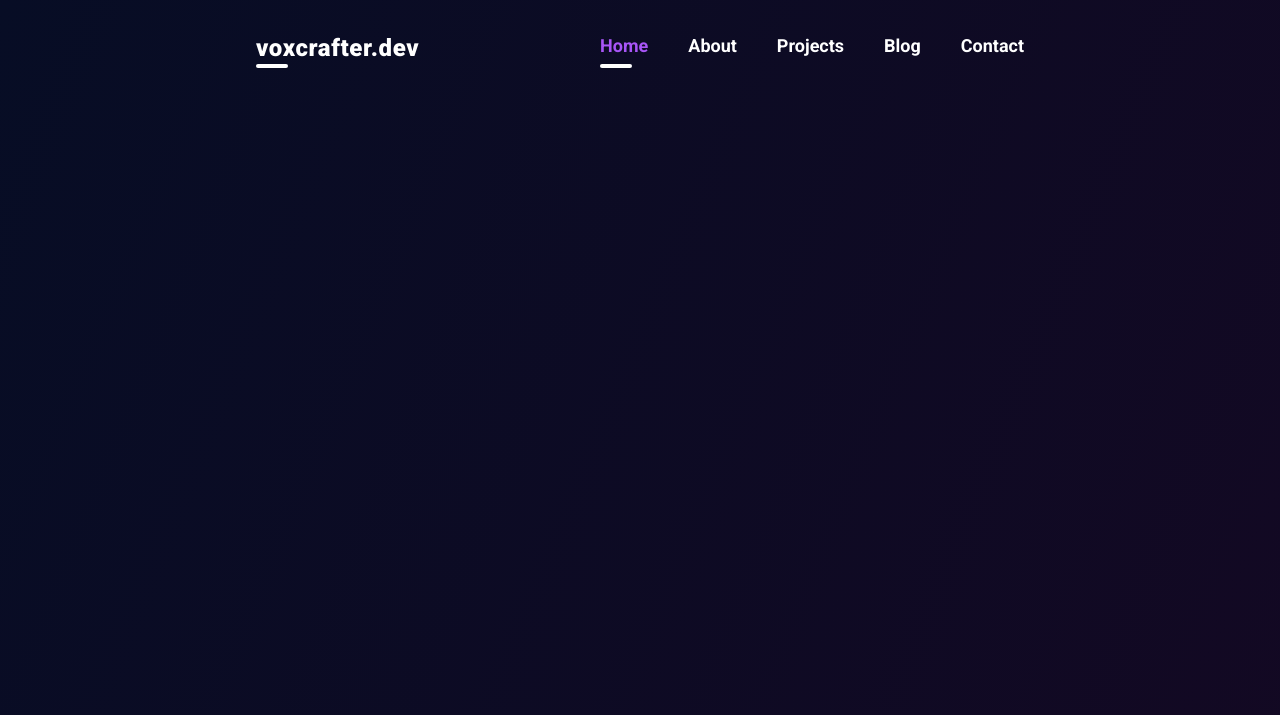
full app rendering/navigating
Click the link with test id "nav-About" at (713, 46), box [688,35,737,56]
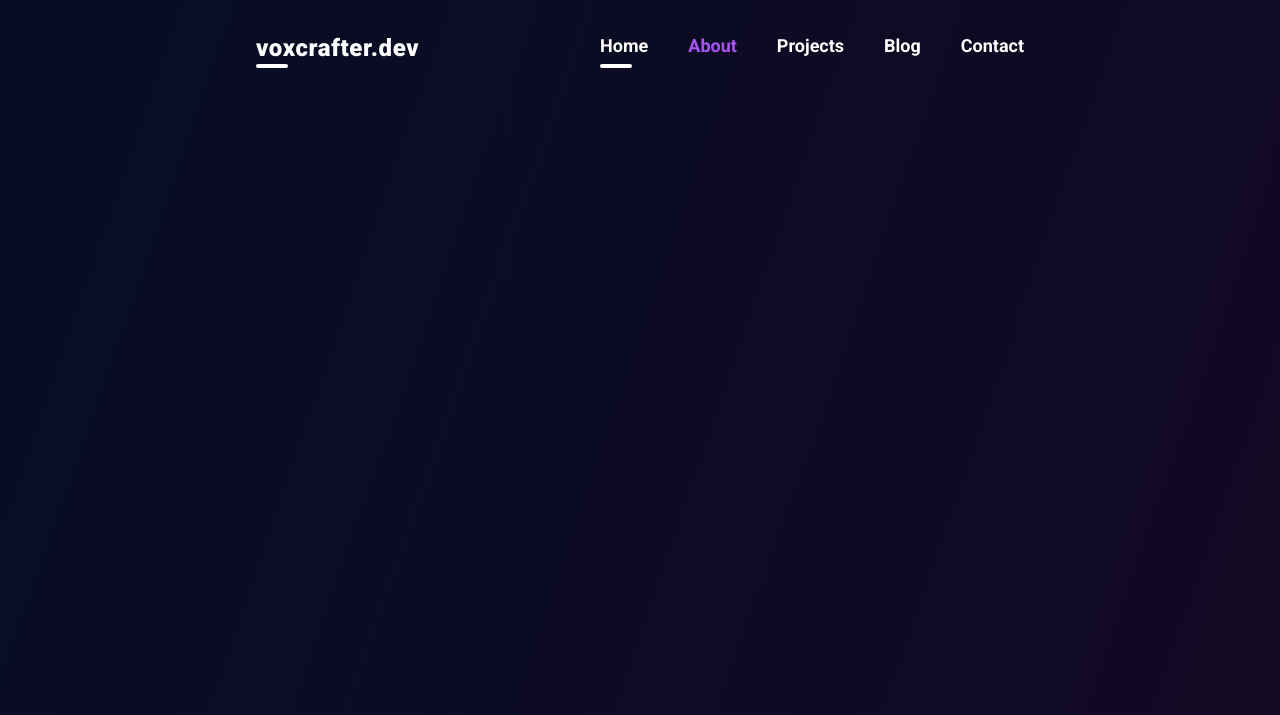
Click the link with test id "nav-Projects" at (810, 46), box [777,35,844,56]
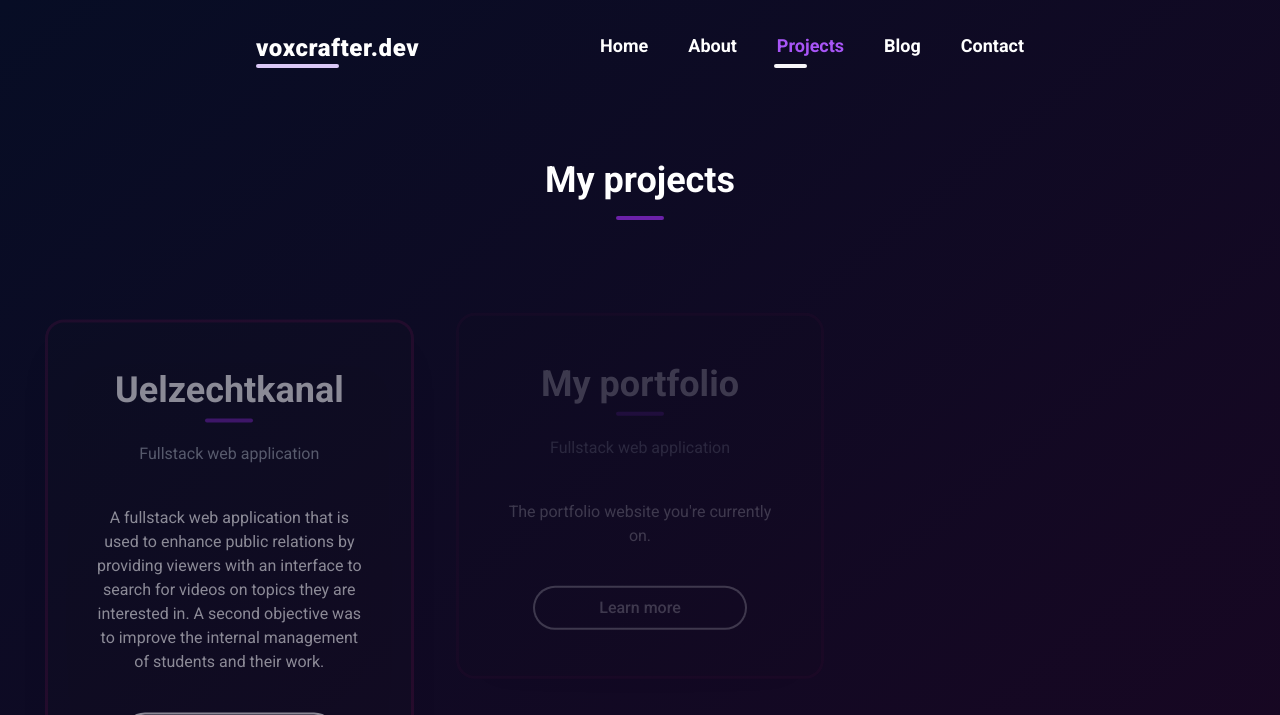
Expected: the heading "My projects" is shown, [545,160,735,200]
